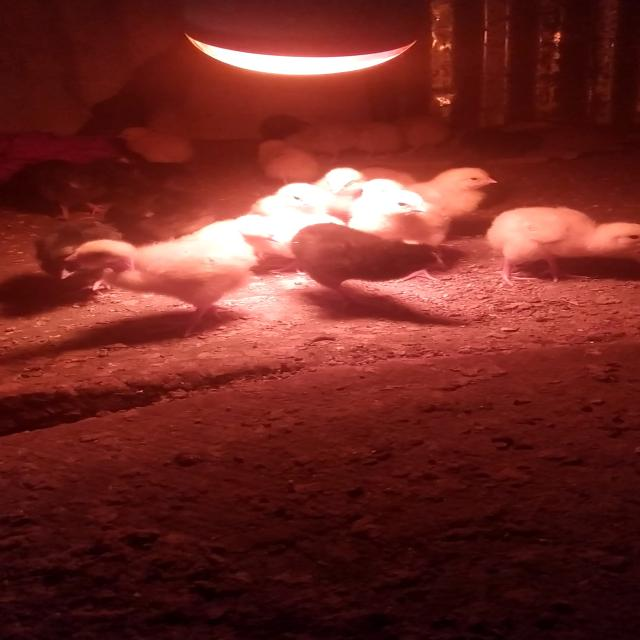chick: (65, 240, 261, 338), (290, 223, 452, 314), (484, 204, 640, 287), (35, 220, 127, 307), (108, 177, 222, 241), (22, 159, 109, 223), (409, 167, 496, 228), (349, 189, 428, 241), (251, 185, 346, 222), (112, 127, 196, 167), (253, 139, 318, 186), (348, 122, 402, 162), (302, 120, 348, 162), (403, 118, 448, 155)
objects: (178, 0, 424, 78)
